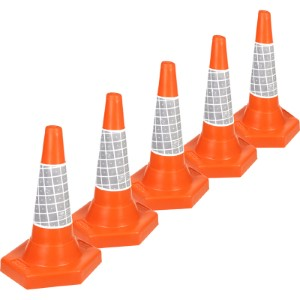traffic cone: (1, 125, 101, 289), (66, 91, 158, 248), (125, 61, 208, 211), (178, 35, 257, 178), (226, 9, 300, 147)
